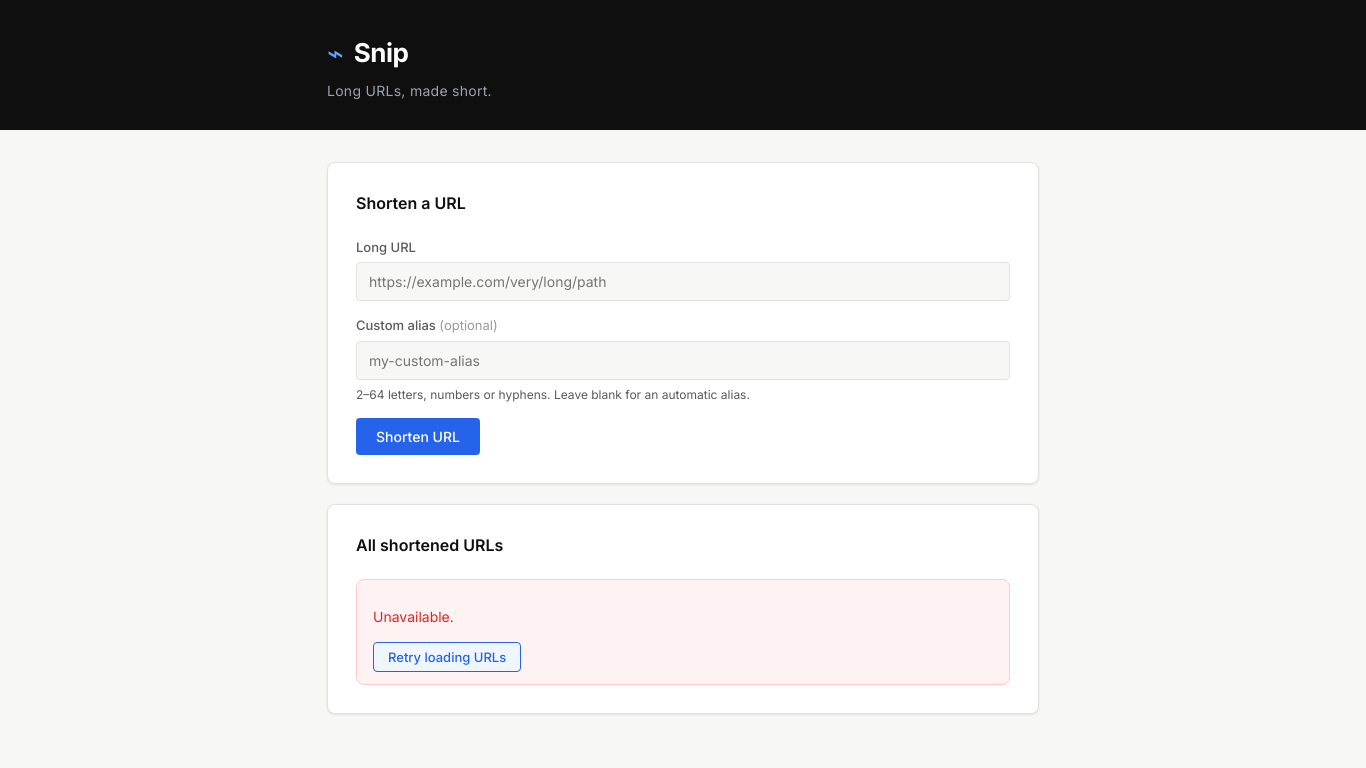
Test: application behaviour › offers retry after a failed load without claiming the database is empty
The width and height of the screenshot is (1366, 768).
Expected: the message shows "Unavailable.", [373, 608, 454, 625]
Click the button "Retry loading URLs". click: (447, 657)
box: [373, 642, 521, 672]
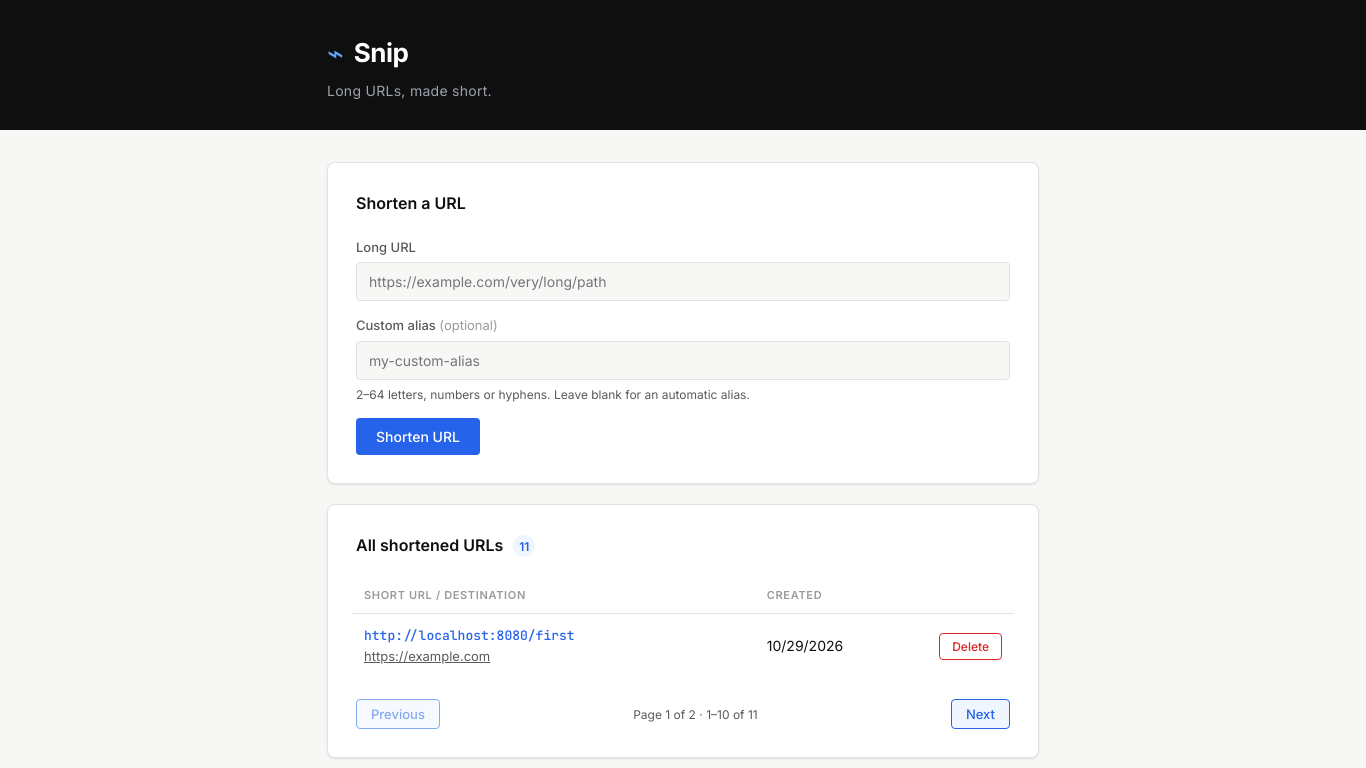
Expected: the button with aria-label "Delete first" is shown, [939, 633, 1002, 660]
